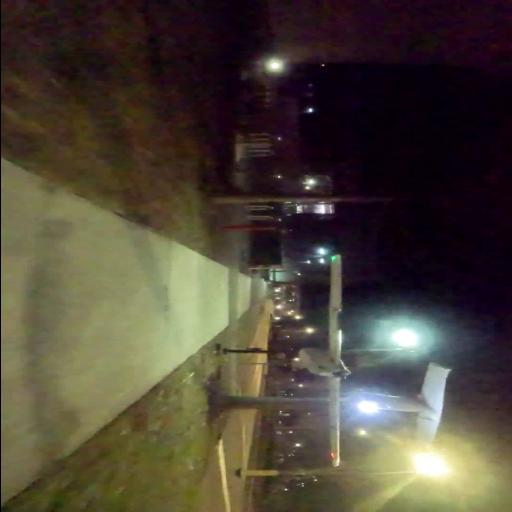uav: (292, 254, 450, 470)
